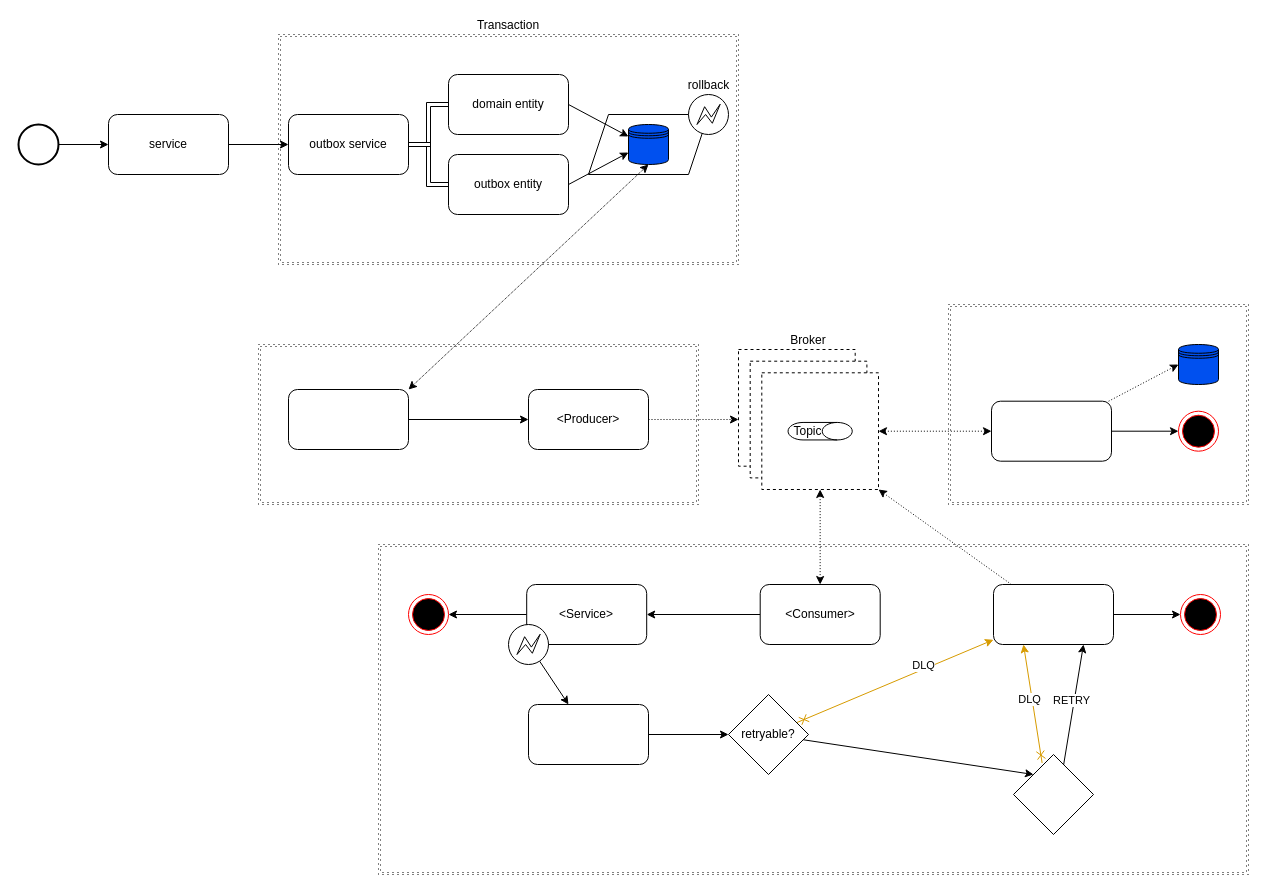
Some shapes in this 1266 by 892 pixel diagram are drawn without their labels. Here are the shapes that lost their labels. From the top down, the centre of each, then its label:
point 348,419: outbox scheduler
point 1051,430: <Consumer> <topic>-DLQ
point 1053,614: <Producer> <topic>-<sufix>
point 588,734: <ErrorHandler>
point 1053,794: has attempts left?
